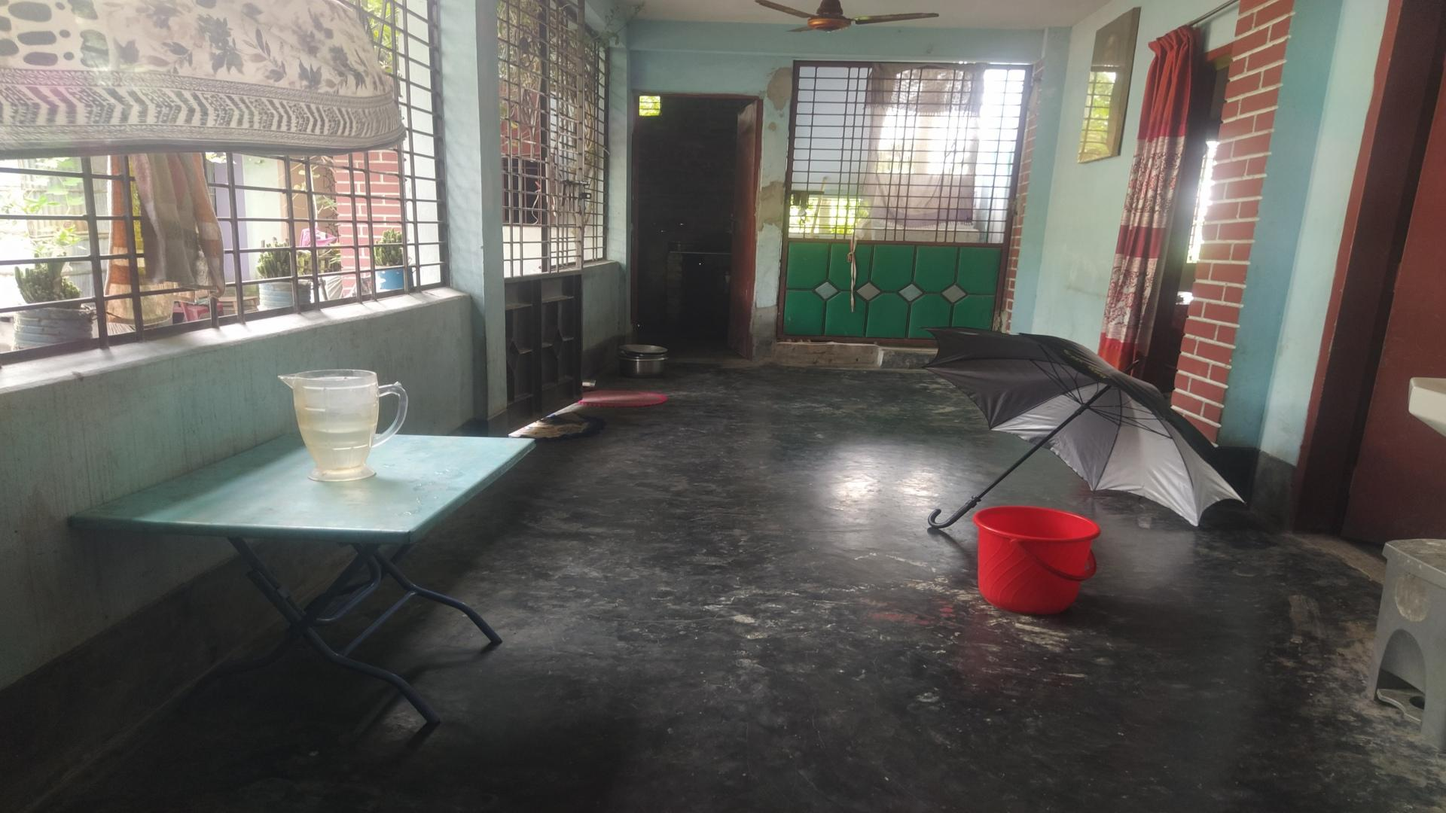Bucket: (972, 512, 1098, 615)
Door: (792, 63, 1013, 347), (630, 91, 754, 347)
Jug: (289, 371, 382, 484)
Table: (67, 439, 531, 721)
Umbrella: (924, 319, 1250, 535)
